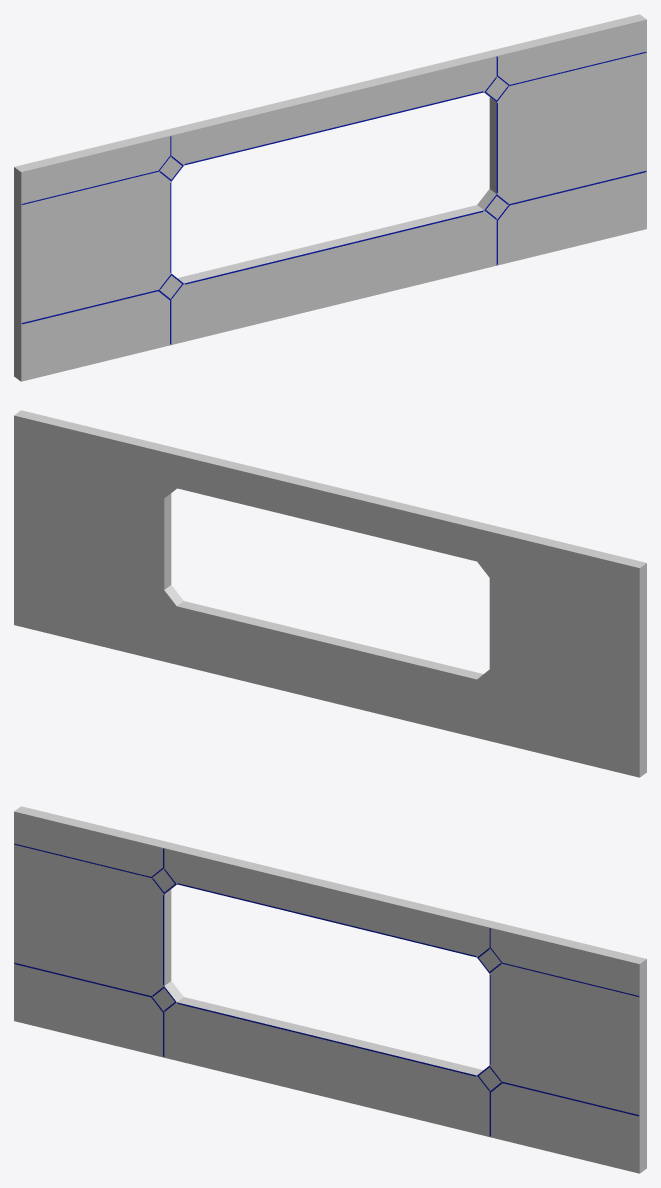
The model's file is Lobby_BackPanel_0.fbx.
3 renders of one model, top to bottom at view 1: azimuth 30°, elevation 25°; view 2: azimuth 150°, elevation 25°; view 3: azimuth 330°, elevation 25°, orthographic.
Parts seen in each view (by area): view 1: Lobby_BackPanel; view 2: Lobby_BackPanel; view 3: Lobby_BackPanel.
Part boxes in pixels (x1=…): Lobby_BackPanel: x1=14, y1=14, x2=646, y2=381; Lobby_BackPanel: x1=14, y1=410, x2=646, y2=777; Lobby_BackPanel: x1=14, y1=806, x2=646, y2=1173.
Size of the model in its own units: 10000 by 3200 by 200.
